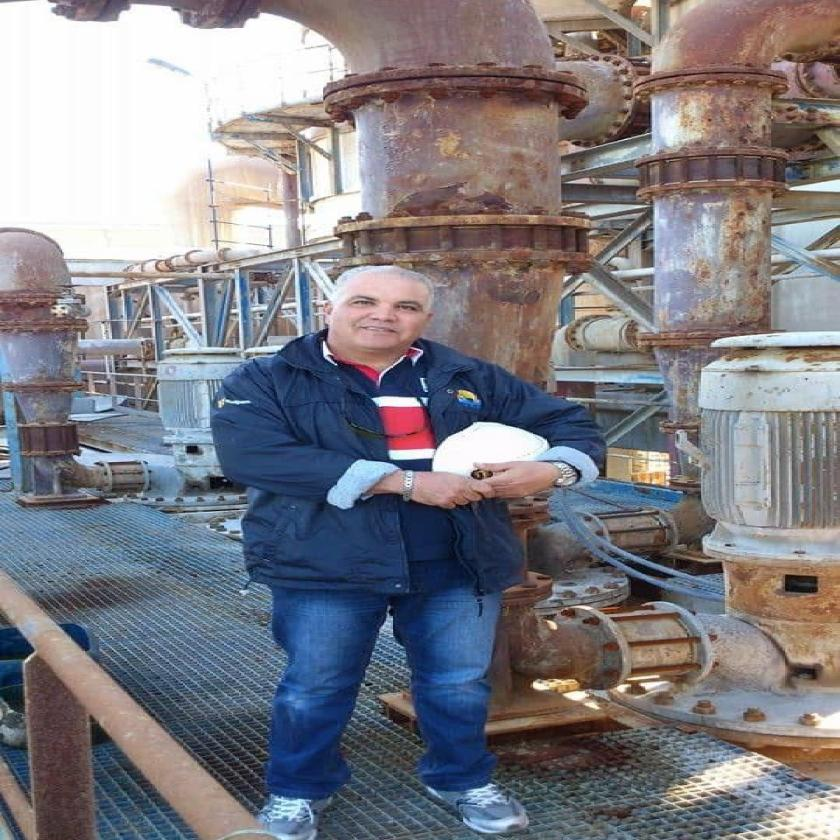Sin_casco: (318, 261, 446, 369)
